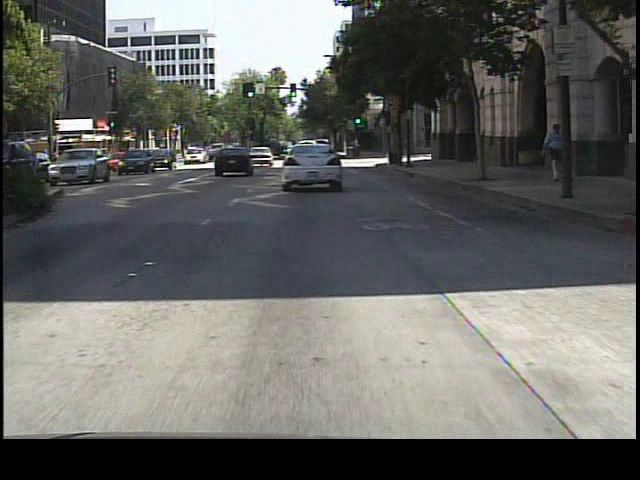person: (539, 118, 563, 185)
